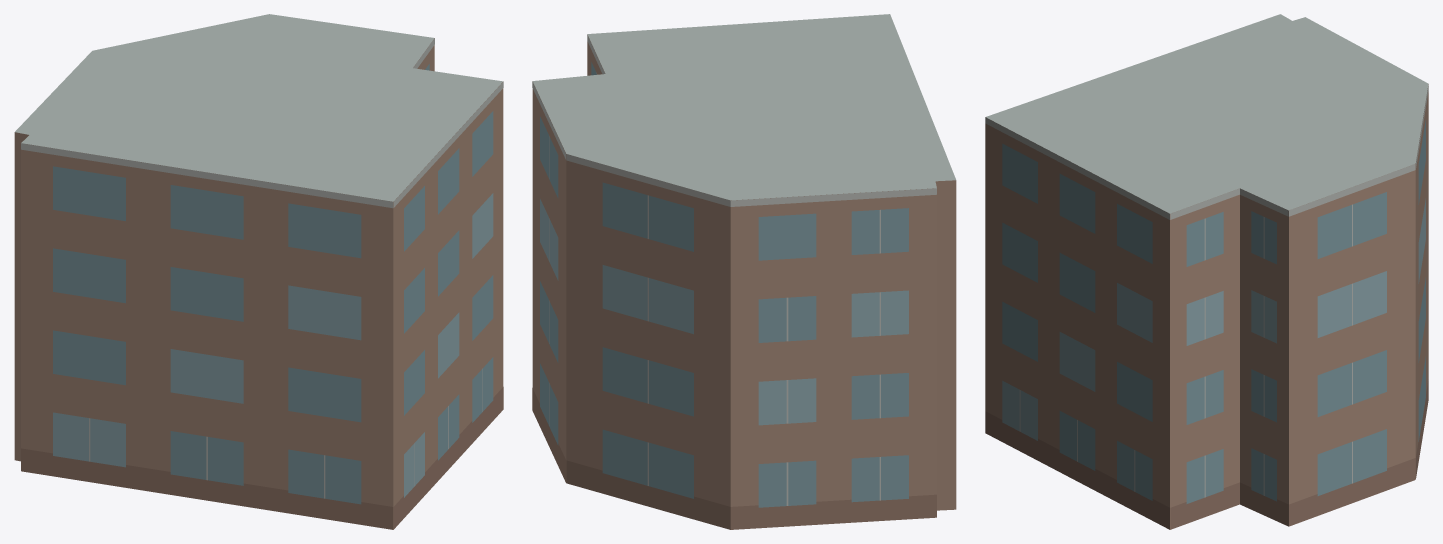
Rendered from survey-upis-32850285.glb.
The picture shows the model from 3 angles, left to right: view 1: azimuth 30°, elevation 25°; view 2: azimuth 150°, elevation 25°; view 3: azimuth 270°, elevation 25°; orthographic projection. The views are drawn at different scales.
Visible parts, largest first — view 1: survey-upis-32850285.tmp; view 2: survey-upis-32850285.tmp; view 3: survey-upis-32850285.tmp.
Part boxes in pixels (left/top/right/bottom): survey-upis-32850285.tmp: left=14, top=14, right=503, bottom=529; survey-upis-32850285.tmp: left=532, top=14, right=956, bottom=529; survey-upis-32850285.tmp: left=985, top=14, right=1428, bottom=529.
Size of the model in its own units: 16.54 by 12.2 by 15.51.
